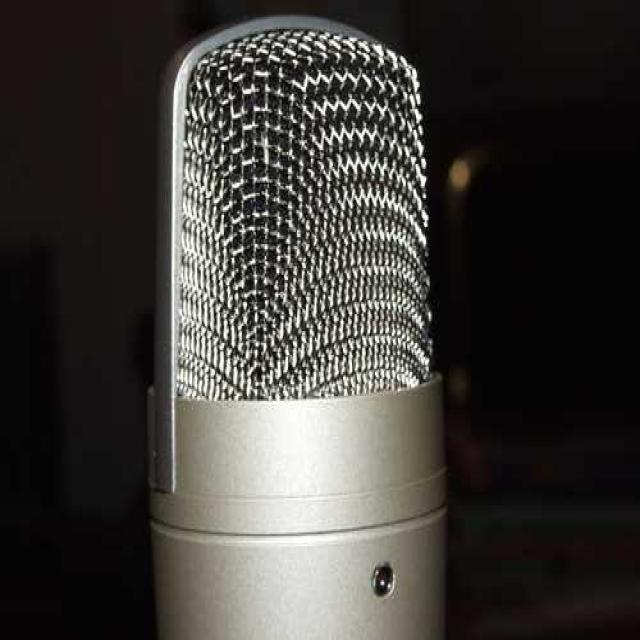microphone: (149, 18, 438, 632)
